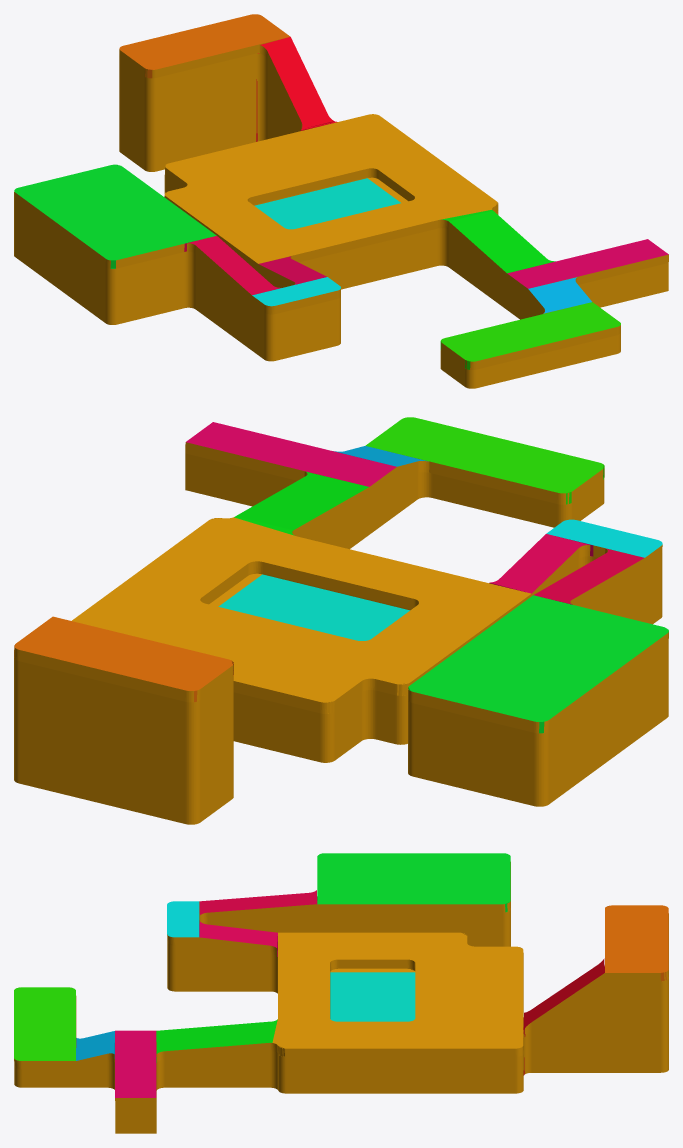
The model's file is CuevaB8.fbx.
The picture shows the model from 3 angles, top to bottom: view 1: azimuth 30°, elevation 25°; view 2: azimuth 150°, elevation 25°; view 3: azimuth 270°, elevation 25°; orthographic projection. The views are drawn at different scales.
Parts seen in each view (by area): view 1: Cube; view 2: Cube; view 3: Cube.
Boxes of the visible parts, <box> form: Cube: <box>14,14,668,388</box>; Cube: <box>14,417,668,824</box>; Cube: <box>14,853,668,1133</box>.
Bounding box in the file's own units: 12.73 × 16.21 × 2.73.
